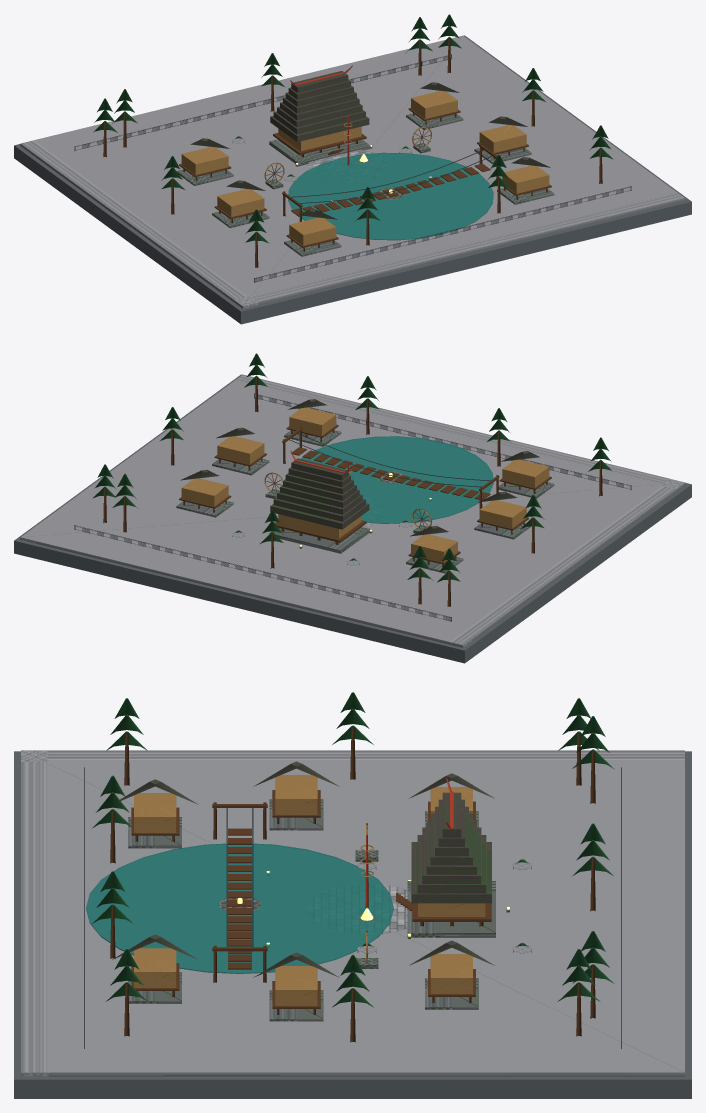
The model's file is ultra_lm_21_lang_cu_lan.glb.
3 views of the same model, one above another, from view 1: azimuth 30°, elevation 25°; view 2: azimuth 150°, elevation 25°; view 3: azimuth 270°, elevation 25° (orthographic). The views are drawn at different scales.
Visible parts, largest first — view 1: GongCourtyard_And_Terraces, HeartLake_And_SuoiCan_Water, FoundationSkirt_Minus3m, WovenBamboo_StiltWalls_And_Waterwheels, RongHouse_And_Stilt_ThatchRoofs, Ironwood_Stilts_Beams_And_BridgeDeck, SuoiCan_StreamBanks_And_Boulders, Langbiang_Pine_Forest_Clusters, SuspensionBridge_Cables_And_Rings; view 2: GongCourtyard_And_Terraces, FoundationSkirt_Minus3m, HeartLake_And_SuoiCan_Water, WovenBamboo_StiltWalls_And_Waterwheels, RongHouse_And_Stilt_ThatchRoofs, Ironwood_Stilts_Beams_And_BridgeDeck, SuoiCan_StreamBanks_And_Boulders, Langbiang_Pine_Forest_Clusters, SuspensionBridge_Cables_And_Rings; view 3: GongCourtyard_And_Terraces, HeartLake_And_SuoiCan_Water, FoundationSkirt_Minus3m, WovenBamboo_StiltWalls_And_Waterwheels, RongHouse_And_Stilt_ThatchRoofs, Ironwood_Stilts_Beams_And_BridgeDeck, Langbiang_Pine_Forest_Clusters, SuoiCan_StreamBanks_And_Boulders, SuspensionBridge_Cables_And_Rings.
Part boxes in pixels (bbox=[...]): GongCourtyard_And_Terraces: bbox=[20, 35, 685, 308]; HeartLake_And_SuoiCan_Water: bbox=[288, 152, 493, 240]; FoundationSkirt_Minus3m: bbox=[14, 35, 691, 324]; WovenBamboo_StiltWalls_And_Waterwheels: bbox=[181, 90, 549, 245]; RongHouse_And_Stilt_ThatchRoofs: bbox=[191, 71, 550, 219]; Ironwood_Stilts_Beams_And_BridgeDeck: bbox=[103, 38, 602, 267]; SuoiCan_StreamBanks_And_Boulders: bbox=[176, 113, 554, 256]; Langbiang_Pine_Forest_Clusters: bbox=[94, 14, 613, 243]; SuspensionBridge_Cables_And_Rings: bbox=[74, 54, 631, 282]; GongCourtyard_And_Terraces: bbox=[20, 374, 685, 647]; FoundationSkirt_Minus3m: bbox=[14, 374, 691, 663]; HeartLake_And_SuoiCan_Water: bbox=[301, 436, 493, 523]; WovenBamboo_StiltWalls_And_Waterwheels: bbox=[181, 407, 549, 562]; RongHouse_And_Stilt_ThatchRoofs: bbox=[180, 399, 539, 536]; Ironwood_Stilts_Beams_And_BridgeDeck: bbox=[103, 377, 602, 606]; SuoiCan_StreamBanks_And_Boulders: bbox=[176, 430, 554, 573]; Langbiang_Pine_Forest_Clusters: bbox=[92, 353, 611, 582]; SuspensionBridge_Cables_And_Rings: bbox=[74, 393, 631, 621]; GongCourtyard_And_Terraces: bbox=[21, 750, 684, 1076]; HeartLake_And_SuoiCan_Water: bbox=[86, 843, 393, 973]; FoundationSkirt_Minus3m: bbox=[14, 751, 691, 1098]; WovenBamboo_StiltWalls_And_Waterwheels: bbox=[134, 775, 485, 1005]; RongHouse_And_Stilt_ThatchRoofs: bbox=[112, 761, 494, 977]; Ironwood_Stilts_Beams_And_BridgeDeck: bbox=[110, 727, 595, 1042]; Langbiang_Pine_Forest_Clusters: bbox=[92, 692, 613, 1007]; SuoiCan_StreamBanks_And_Boulders: bbox=[128, 799, 531, 1021]; SuspensionBridge_Cables_And_Rings: bbox=[84, 767, 621, 1048].
Bounding box in the file's own units: 110 × 21.08 × 96.
11 materials, 4 textured.
